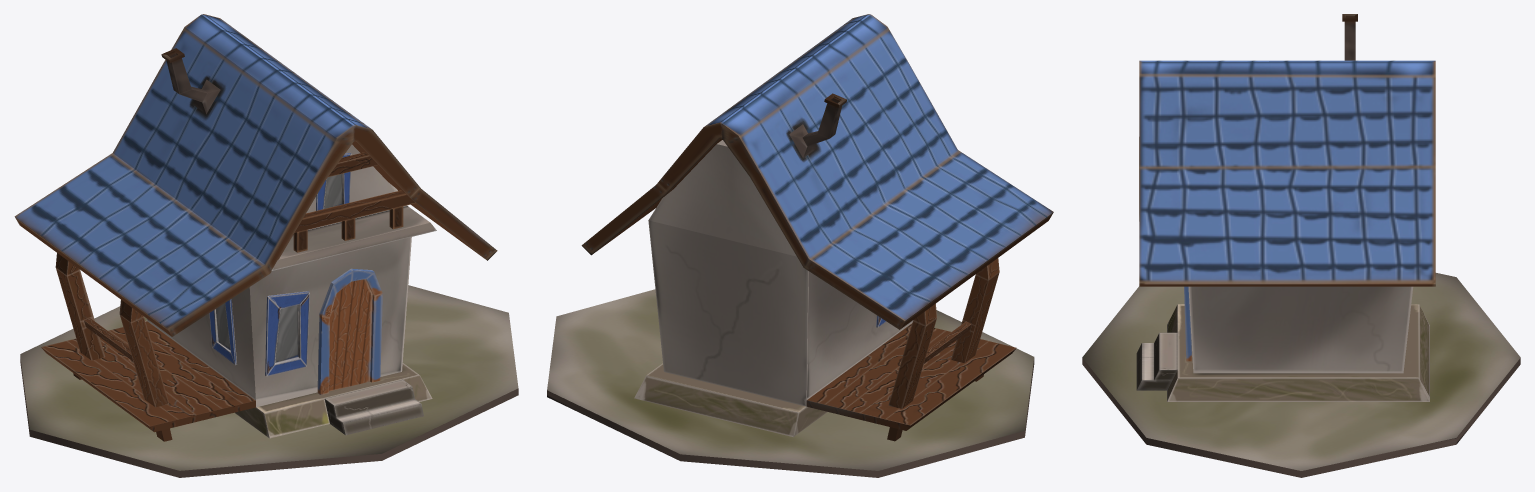
File: house.obj
3 views of the same model, side by side, from view 1: azimuth 30°, elevation 25°; view 2: azimuth 150°, elevation 25°; view 3: azimuth 270°, elevation 25° (orthographic). The views are drawn at different scales.
Parts seen in each view (by area): view 1: Object_3; view 2: Object_3; view 3: Object_3.
Boxes of the visible parts, left/top/right/bottom form: Object_3: left=14, top=14, right=518, bottom=477; Object_3: left=547, top=14, right=1053, bottom=477; Object_3: left=1082, top=14, right=1520, bottom=477.
Bounding box in the file's own units: 185 × 120 × 151.
